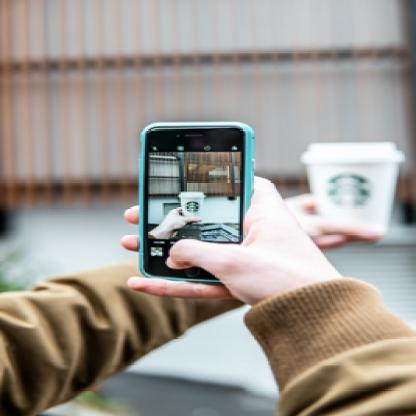cell-phone: (132, 116, 260, 282)
